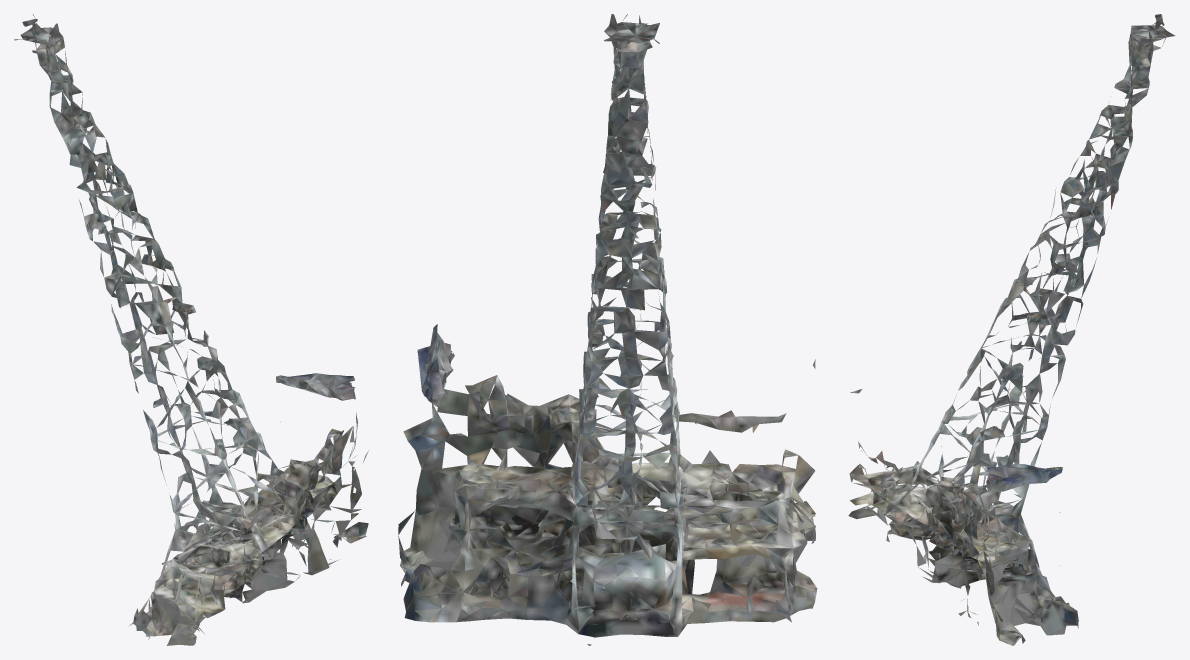
File: output_no_ktx.glb
3 views of the same model, side by side, from view 1: azimuth 30°, elevation 25°; view 2: azimuth 150°, elevation 25°; view 3: azimuth 270°, elevation 25° (orthographic). The views are drawn at different scales.
Bounding box in the file's own units: 71.09 × 132 × 75.6.
Materials: 1 (1 with a texture image).
